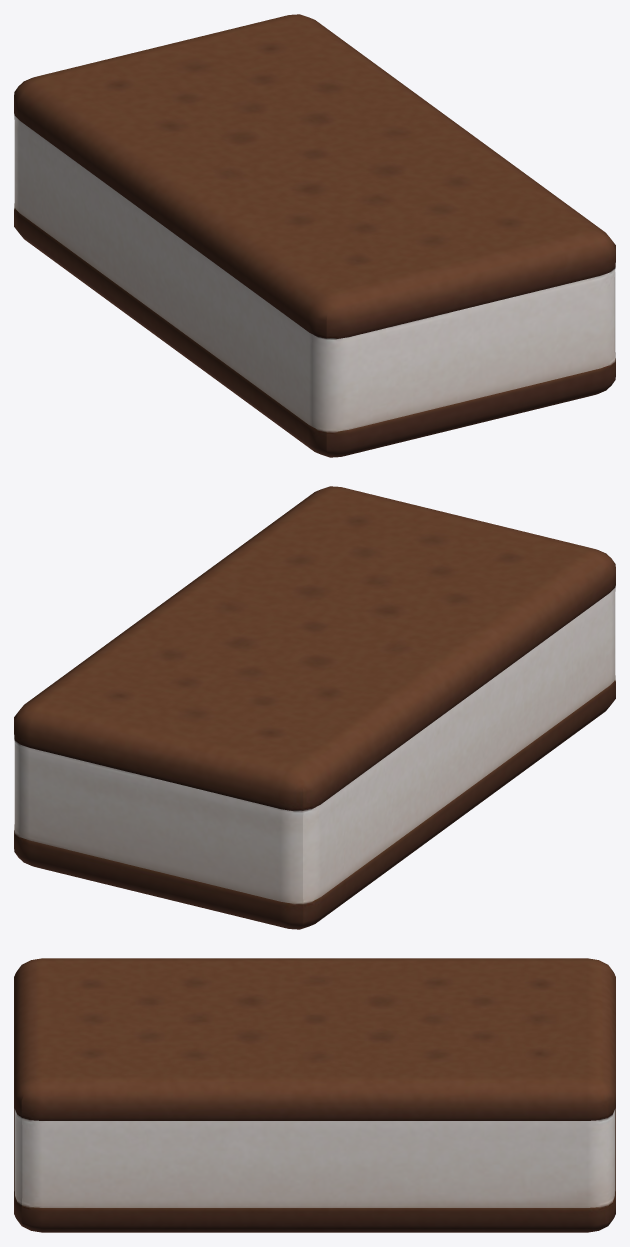
Rendered from IceCreamSandwich_1.fbx.
3 views of the same model, one above another, from view 1: azimuth 30°, elevation 25°; view 2: azimuth 150°, elevation 25°; view 3: azimuth 270°, elevation 25° (orthographic). The views are drawn at different scales.
Visible parts, largest first — view 1: IceCreamSandwich_1; view 2: IceCreamSandwich_1; view 3: IceCreamSandwich_1.
Boxes of the visible parts, x1,y1,x2,y2 form: IceCreamSandwich_1: (14, 14, 615, 457); IceCreamSandwich_1: (14, 486, 615, 929); IceCreamSandwich_1: (14, 958, 615, 1232).
Size of the model in its own units: 29.86 by 15.31 by 54.68.
1 material, 1 textured.
